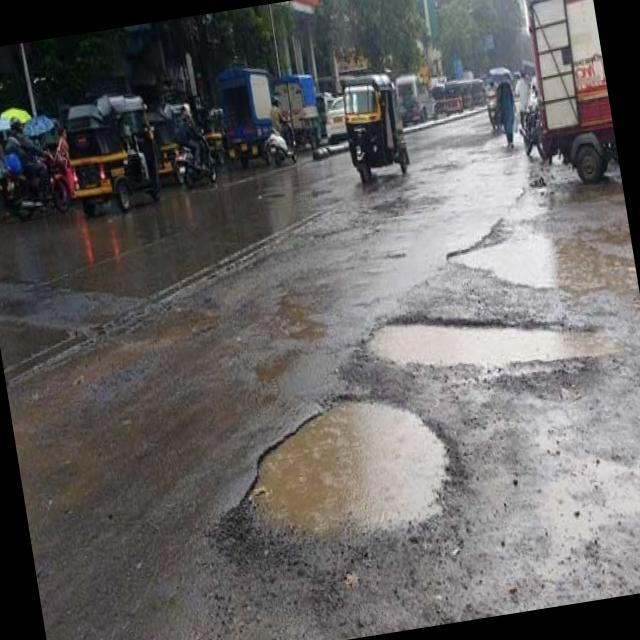Pothole: (203, 355, 505, 596), (346, 288, 624, 417)
